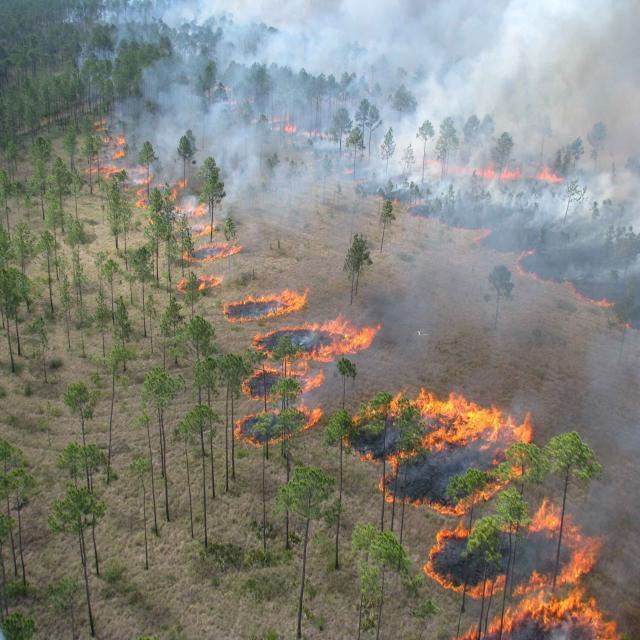Fire: (352, 376, 593, 599), (190, 198, 360, 446), (87, 121, 201, 280), (505, 535, 622, 637), (392, 392, 531, 452), (530, 499, 559, 537), (474, 578, 501, 600), (305, 409, 323, 432), (538, 170, 562, 185), (480, 166, 498, 181), (502, 169, 518, 182)
Smoke: (373, 0, 634, 110)
